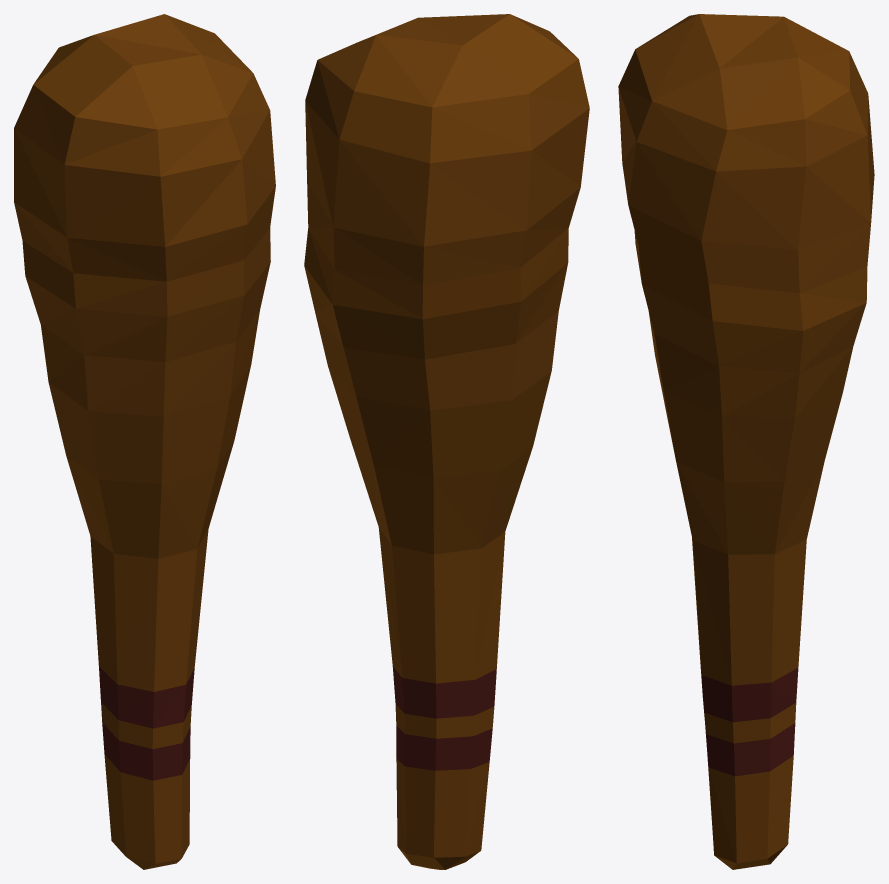
Rendered from club.dae.
The picture shows the model from 3 angles, left to right: view 1: azimuth 30°, elevation 25°; view 2: azimuth 150°, elevation 25°; view 3: azimuth 270°, elevation 25°; orthographic projection. The views are drawn at different scales.
Visible parts, largest first — view 1: Cube; view 2: Cube; view 3: Cube.
Boxes of the visible parts, x1,y1,x2,y2 form: Cube: (14,14,275,869); Cube: (304,14,589,869); Cube: (618,14,874,869).
Bounding box in the file's own units: 2.63 × 2.63 × 9.37.
